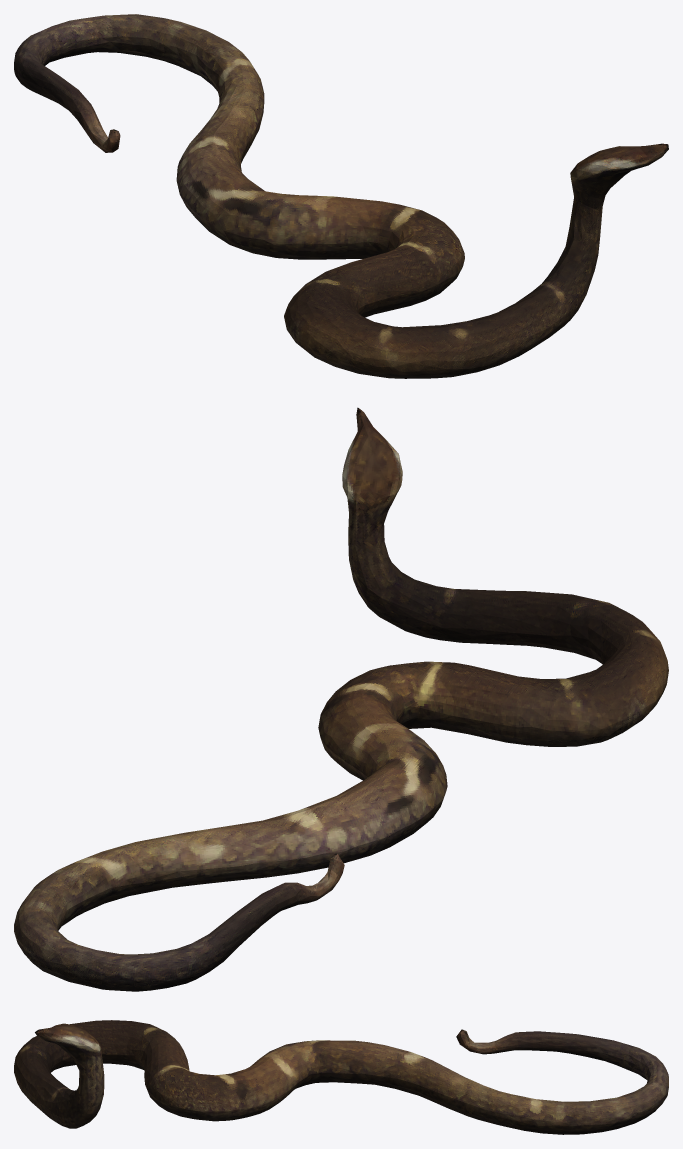
File: jararaca.glb
3 views of the same model, one above another, from view 1: azimuth 30°, elevation 25°; view 2: azimuth 150°, elevation 25°; view 3: azimuth 270°, elevation 25° (orthographic). The views are drawn at different scales.
Parts seen in each view (by area): view 1: world; view 2: world; view 3: world.
Part boxes in pixels (x1,y1,x2,y2): world: [14, 14, 668, 378]; world: [14, 407, 668, 991]; world: [14, 1020, 668, 1134].
Size of the model in its own units: 0.412 by 0.229 by 1.
1 material, 1 textured.
